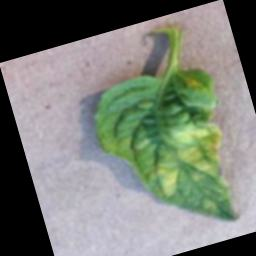Leaf_Mold: (137, 109, 237, 205)
